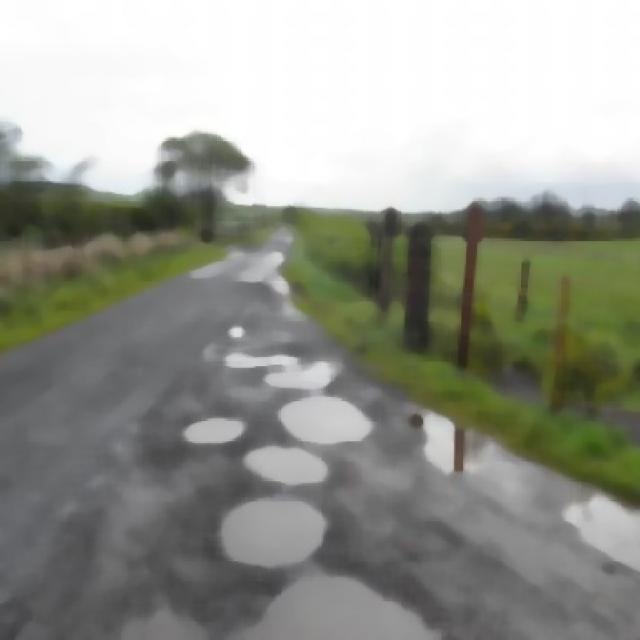Pothole: (116, 576, 456, 638), (230, 427, 353, 490), (213, 488, 329, 550), (272, 392, 370, 450), (180, 408, 248, 449)
